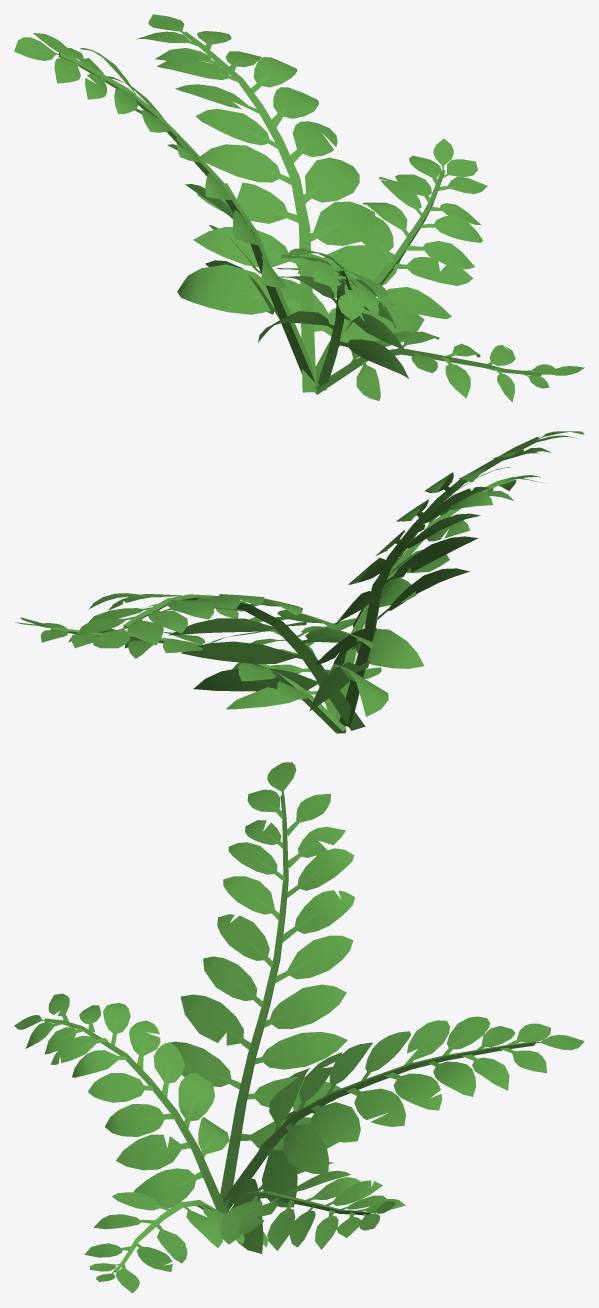
File: plant_ash_A.fbx
3 renders of one model, top to bottom at view 1: azimuth 30°, elevation 25°; view 2: azimuth 150°, elevation 25°; view 3: azimuth 270°, elevation 25°, orthographic. The views are drawn at different scales.
Visible parts, largest first — view 1: plant_ash_branch_B, plant_ash_branch_E, plant_ash_branch_A, plant_ash_branch_C, plant_ash_branch_D; view 2: plant_ash_branch_B, plant_ash_branch_A, plant_ash_branch_C, plant_ash_branch_E, plant_ash_branch_D; view 3: plant_ash_branch_A, plant_ash_branch_B, plant_ash_branch_C, plant_ash_branch_E, plant_ash_branch_D.
Part boxes in pixels (left/top/right/bottom): plant_ash_branch_B: left=136, top=14, right=424, bottom=392; plant_ash_branch_E: left=280, top=138, right=487, bottom=378; plant_ash_branch_A: left=14, top=33, right=319, bottom=388; plant_ash_branch_C: left=258, top=248, right=408, bottom=390; plant_ash_branch_D: left=315, top=331, right=584, bottom=402; plant_ash_branch_B: left=76, top=593, right=388, bottom=730; plant_ash_branch_A: left=309, top=431, right=584, bottom=727; plant_ash_branch_C: left=333, top=475, right=547, bottom=727; plant_ash_branch_E: left=15, top=617, right=345, bottom=733; plant_ash_branch_D: left=204, top=608, right=381, bottom=733; plant_ash_branch_A: left=164, top=762, right=354, bottom=1211; plant_ash_branch_B: left=222, top=1016, right=584, bottom=1253; plant_ash_branch_C: left=14, top=993, right=229, bottom=1213; plant_ash_branch_E: left=219, top=1162, right=405, bottom=1250; plant_ash_branch_D: left=84, top=1192, right=268, bottom=1293.
Bounding box in the file's own units: 125 × 91.01 × 136.
